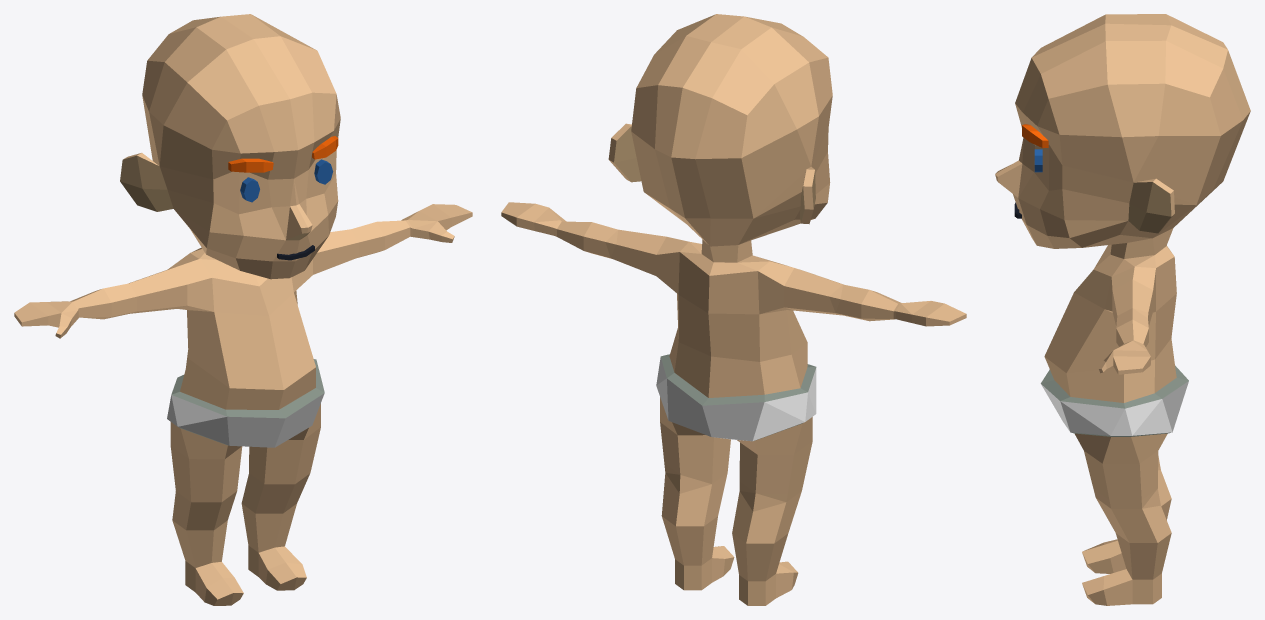
Rendered from Baby.obj.
3 renders of one model, left to right at view 1: azimuth 30°, elevation 25°; view 2: azimuth 150°, elevation 25°; view 3: azimuth 270°, elevation 25°, orthographic.
Parts seen in each view (by area): view 1: Object_4, Object_6; view 2: Object_4; view 3: Object_4, Object_6.
Part boxes in pixels (x1,y1,x2,y2): Object_4: (14, 14, 472, 605); Object_6: (228, 136, 338, 202); Object_4: (501, 14, 966, 605); Object_4: (995, 14, 1250, 605); Object_6: (1022, 124, 1048, 172).
Size of the model in its own units: 0.6699 by 0.7843 by 0.3254.
Materials: 1 (1 with a texture image).
